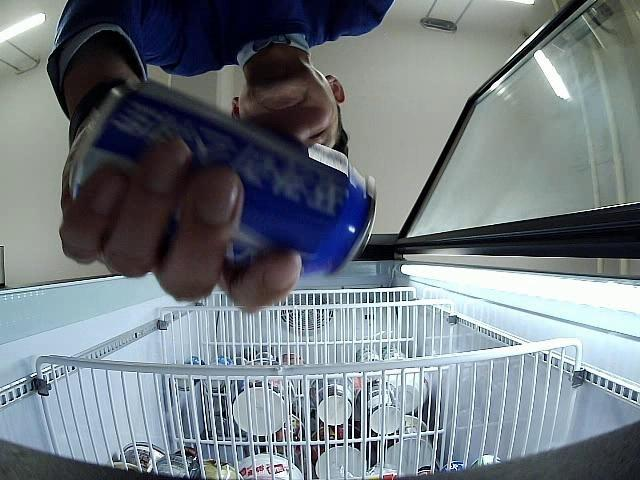13_pocariSweat: (62, 80, 372, 278)
